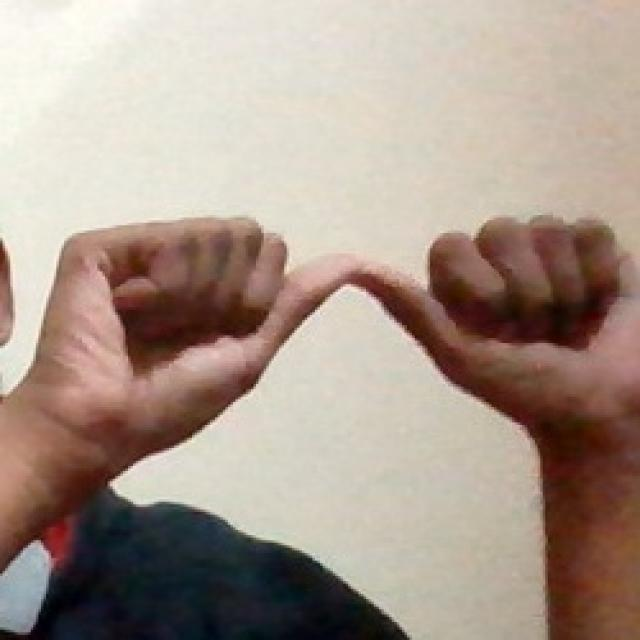Alphabet-A: (34, 204, 636, 461)
